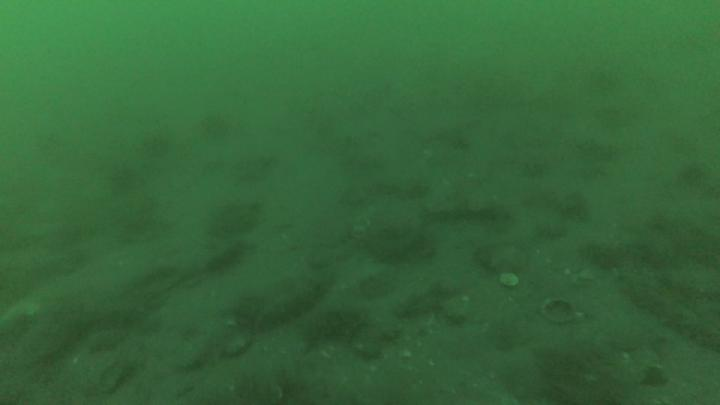holothurian: (624, 274, 720, 350), (254, 271, 328, 331), (304, 302, 368, 346)
